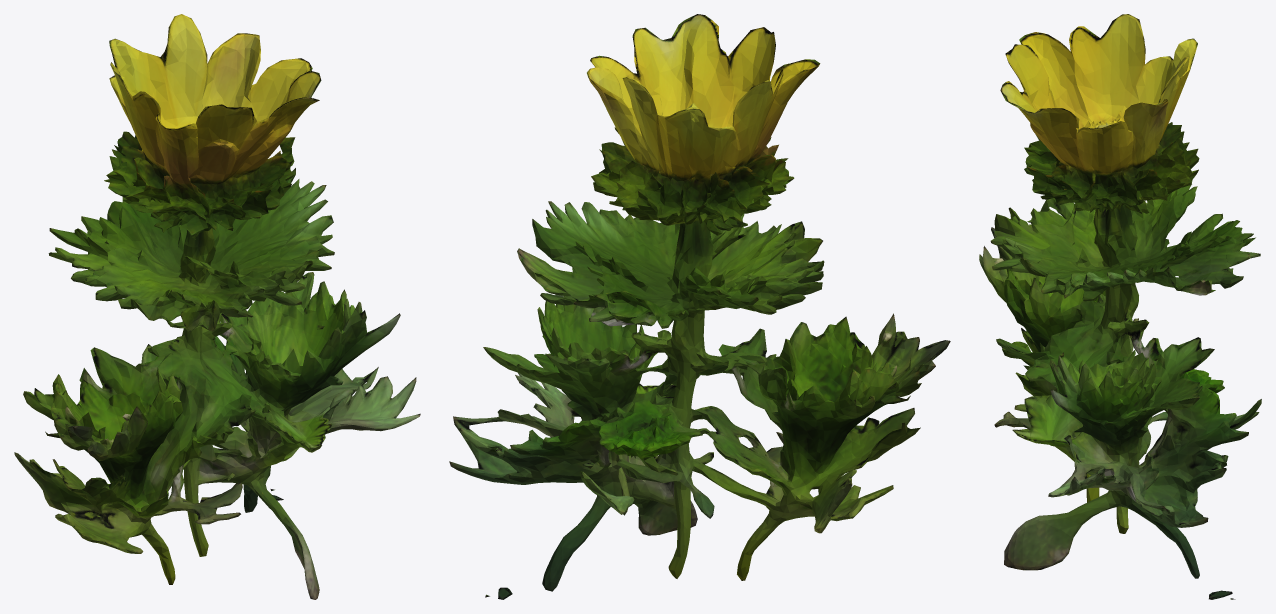
File: adonis.glb
3 renders of one model, left to right at view 1: azimuth 30°, elevation 25°; view 2: azimuth 150°, elevation 25°; view 3: azimuth 270°, elevation 25°, orthographic. The views are drawn at different scales.
Size of the model in its own units: 79.48 by 100 by 52.21.
Materials: 1 (1 with a texture image).
